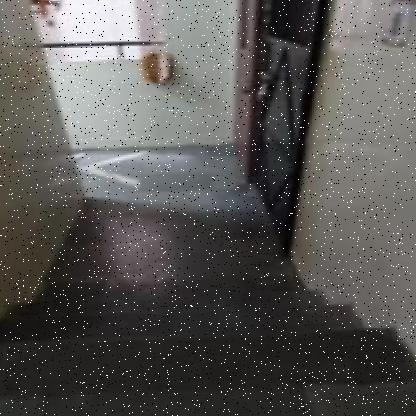stair_down: (21, 258, 273, 388)
